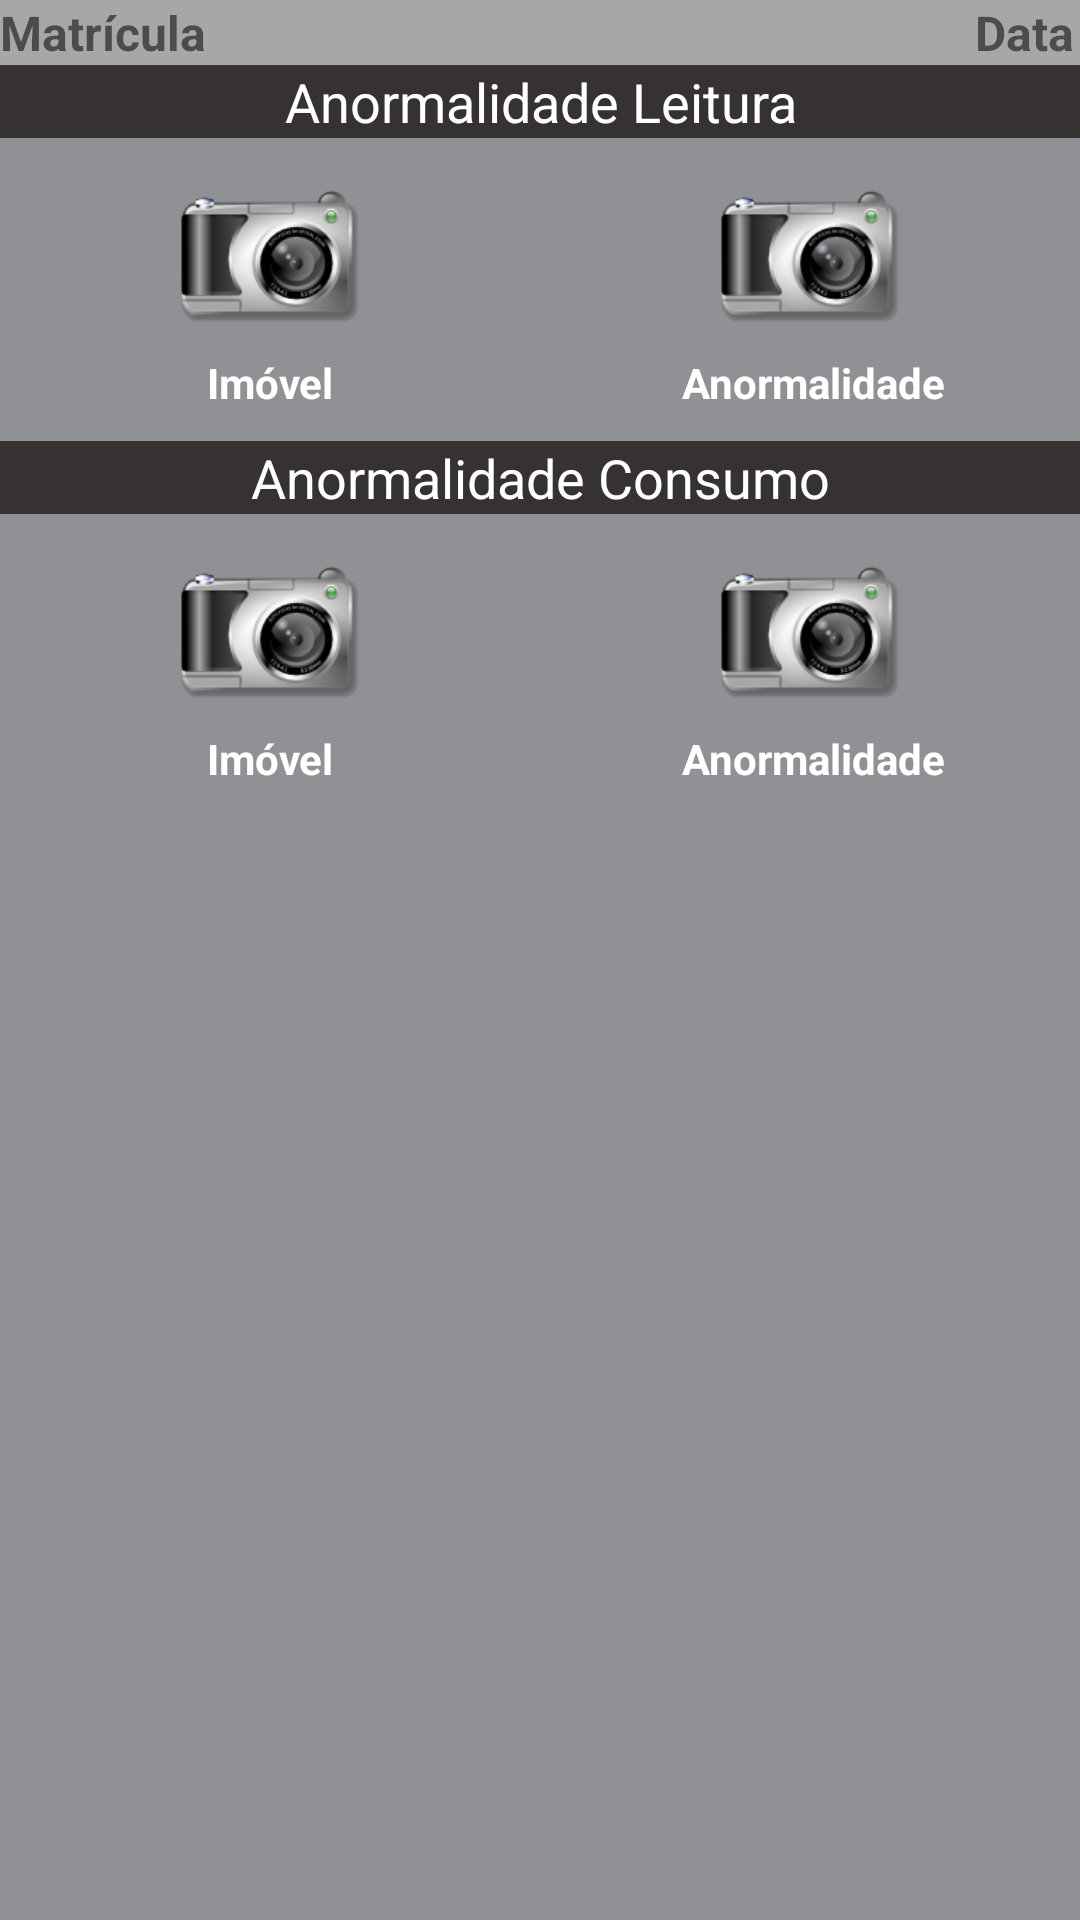

Icons on this 1080×1920 Android screen, each with the point to tap as (x=x, y=y):
camera: (x=268, y=255), (x=808, y=255), (x=268, y=631), (x=808, y=631)
